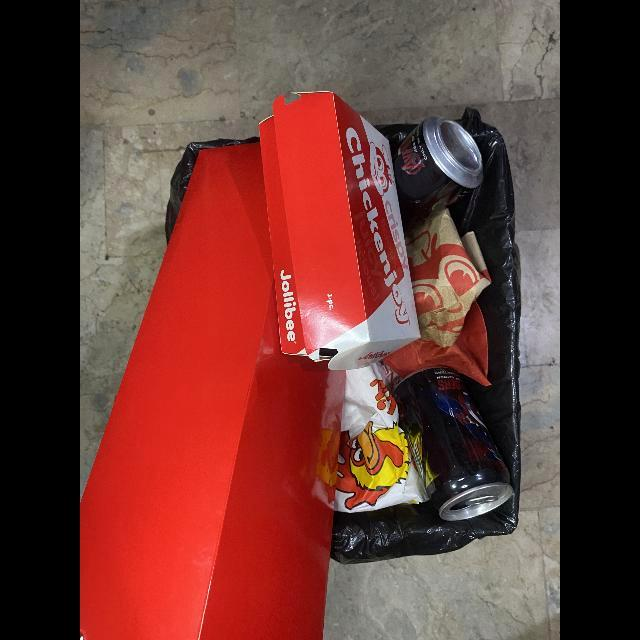aluminum: (392, 366, 515, 521), (391, 114, 483, 233)
cardboard: (80, 137, 364, 640), (258, 91, 420, 370)
paper: (381, 204, 493, 386)
